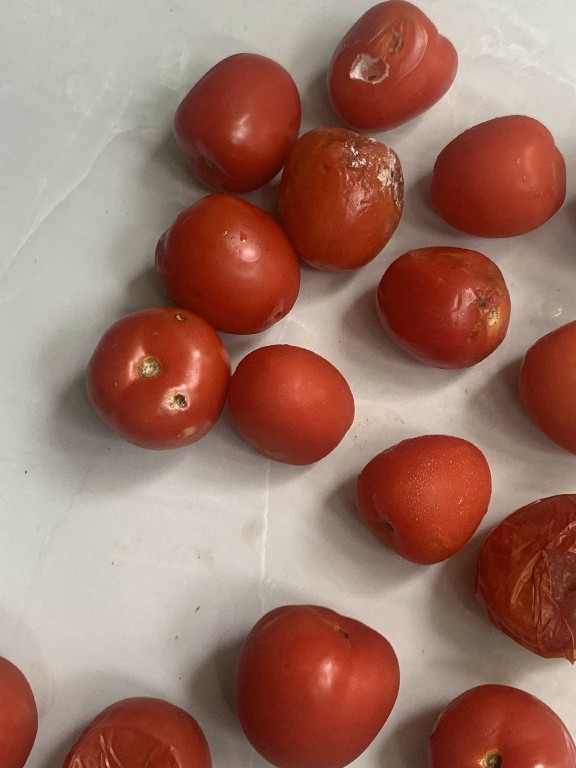NG: (268, 120, 410, 279), (84, 305, 226, 461), (312, 4, 467, 132), (365, 241, 518, 369), (471, 487, 576, 668)
OK: (229, 597, 406, 767), (148, 190, 316, 332), (352, 425, 500, 568), (167, 44, 307, 191), (422, 107, 572, 236), (227, 338, 355, 468), (418, 681, 575, 768), (510, 314, 575, 465)
